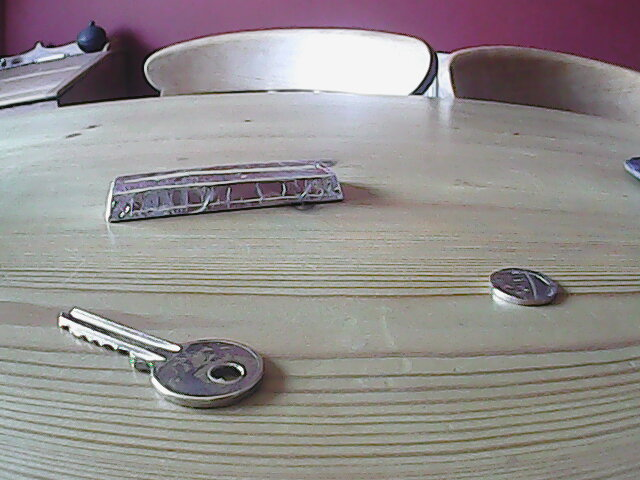Coin: (484, 265, 563, 306)
Foil: (100, 158, 348, 226)
Key: (55, 303, 267, 412)
